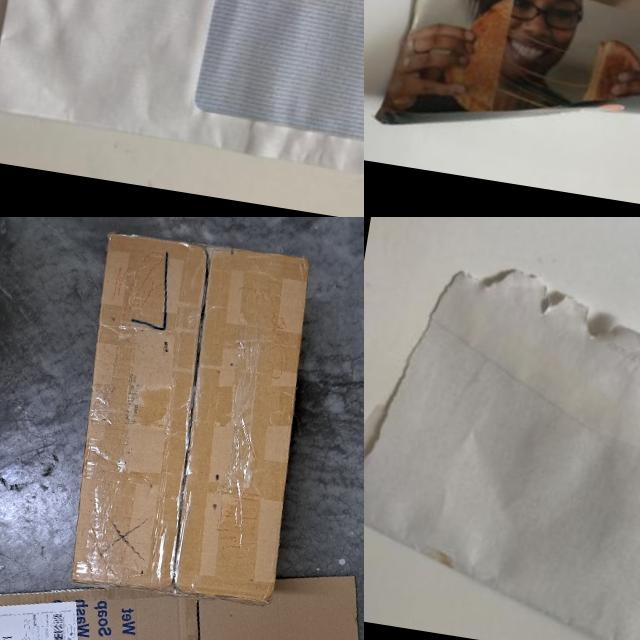papel: (364, 244, 640, 640), (0, 0, 364, 188), (376, 0, 640, 200)
papelão: (54, 224, 330, 612), (0, 515, 364, 640)
